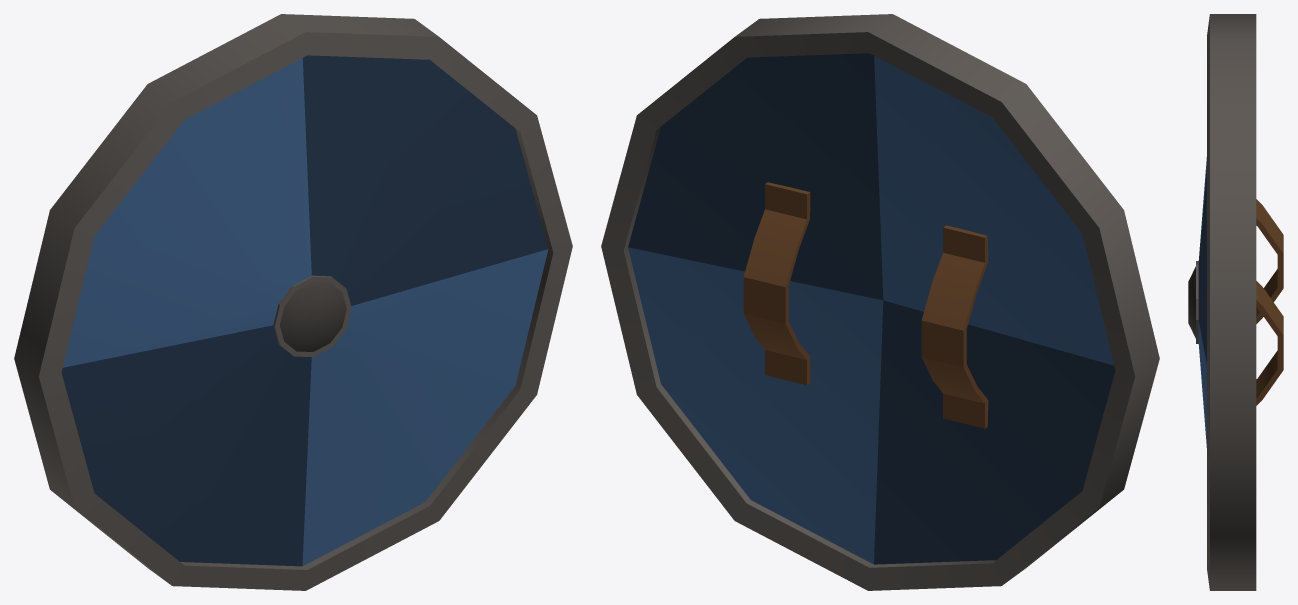
File: Round Shield_Blue.glb
3 views of the same model, side by side, from view 1: azimuth 30°, elevation 25°; view 2: azimuth 150°, elevation 25°; view 3: azimuth 270°, elevation 25° (orthographic). The views are drawn at different scales.
Visible parts, largest first — view 1: Round Shield_Blue; view 2: Round Shield_Blue; view 3: Round Shield_Blue.
Part boxes in pixels (box(x1,y1,x2,y2)): Round Shield_Blue: box(14, 14, 572, 590); Round Shield_Blue: box(601, 14, 1159, 590); Round Shield_Blue: box(1188, 14, 1283, 590).
Bounding box in the file's own units: 0.6 × 0.6 × 0.0987.
1 material, 1 textured.
